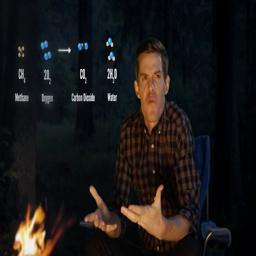fire: (13, 205, 61, 256)
